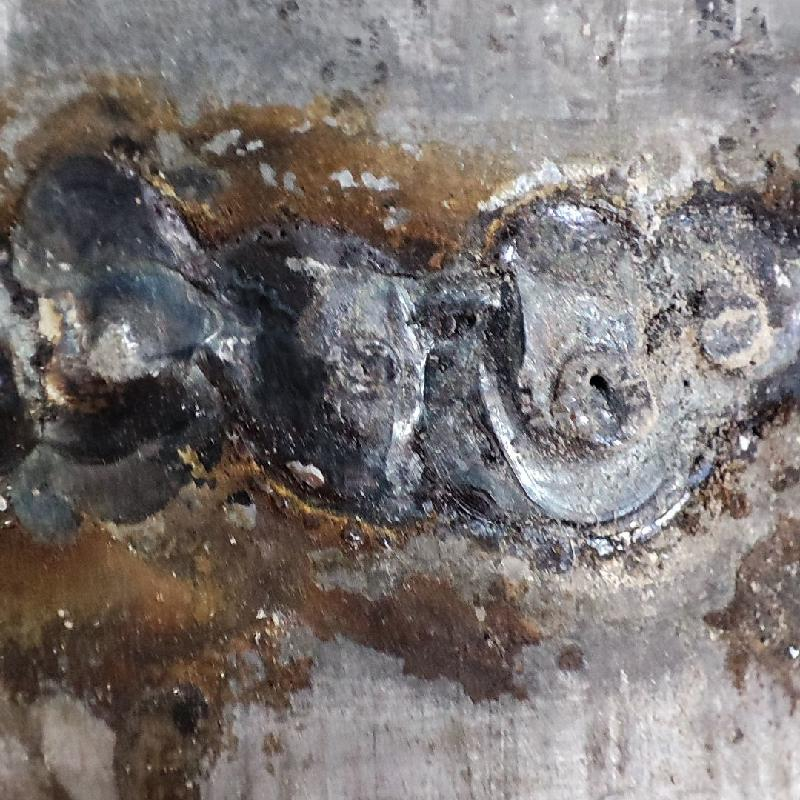Not_fully_soldered: (438, 184, 797, 543)
Surface_pores: (558, 350, 636, 435)
